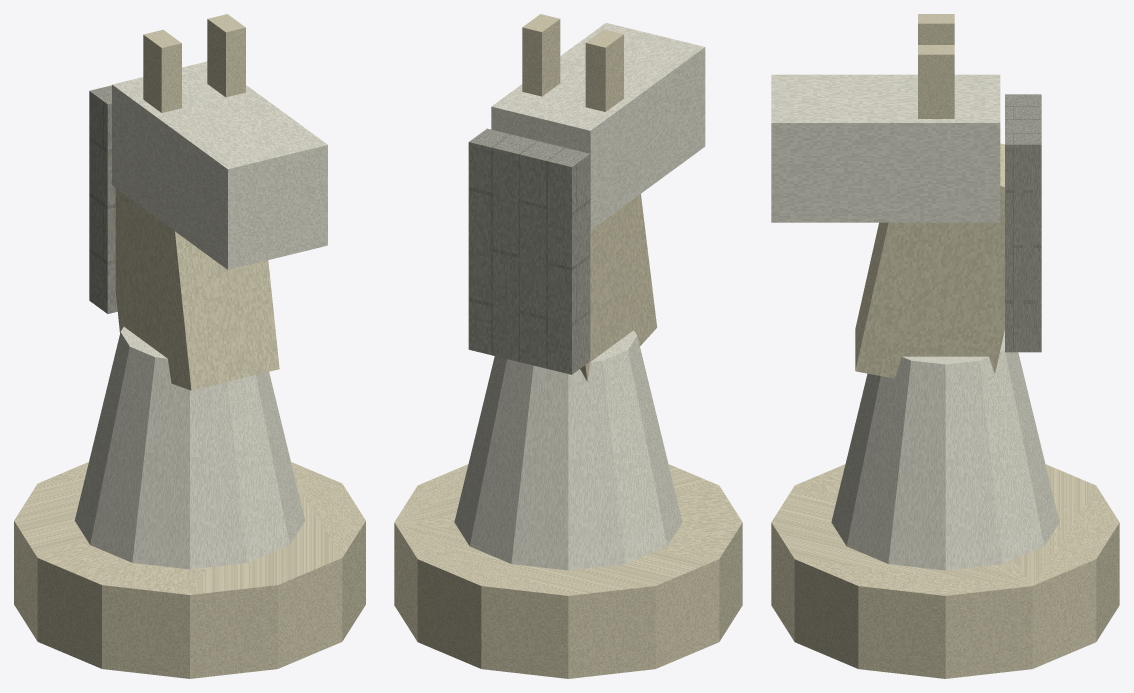
The model's file is chess_knight.glb.
The picture shows the model from 3 angles, left to right: view 1: azimuth 30°, elevation 25°; view 2: azimuth 150°, elevation 25°; view 3: azimuth 270°, elevation 25°; orthographic projection.
Visible parts, largest first — view 1: base, pedestal, horse_head, neck, ear (×2), mane; view 2: base, pedestal, mane, horse_head, neck, ear (×2); view 3: base, pedestal, horse_head, neck, mane, ear (×2).
Part boxes in pixels (left/top/right/bottom): base: left=14, top=462, right=365, bottom=678; pedestal: left=74, top=327, right=305, bottom=569; horse_head: left=112, top=61, right=327, bottom=269; neck: left=115, top=188, right=279, bottom=390; ear (×2): left=143, top=14, right=245, bottom=112; mane: left=89, top=85, right=117, bottom=313; base: left=394, top=464, right=742, bottom=678; pedestal: left=454, top=330, right=682, bottom=570; mane: left=468, top=128, right=590, bottom=374; horse_head: left=491, top=23, right=705, bottom=230; neck: left=499, top=194, right=657, bottom=381; ear (×2): left=522, top=14, right=623, bottom=111; base: left=771, top=464, right=1119, bottom=678; pedestal: left=831, top=330, right=1059, bottom=570; horse_head: left=771, top=74, right=1000, bottom=222; neck: left=855, top=143, right=1004, bottom=378; mane: left=1005, top=94, right=1041, bottom=352; ear (×2): left=918, top=14, right=954, bottom=118.
Bounding box in the file's own units: 0.76 × 1.38 × 0.76.
1 material, 1 textured.
